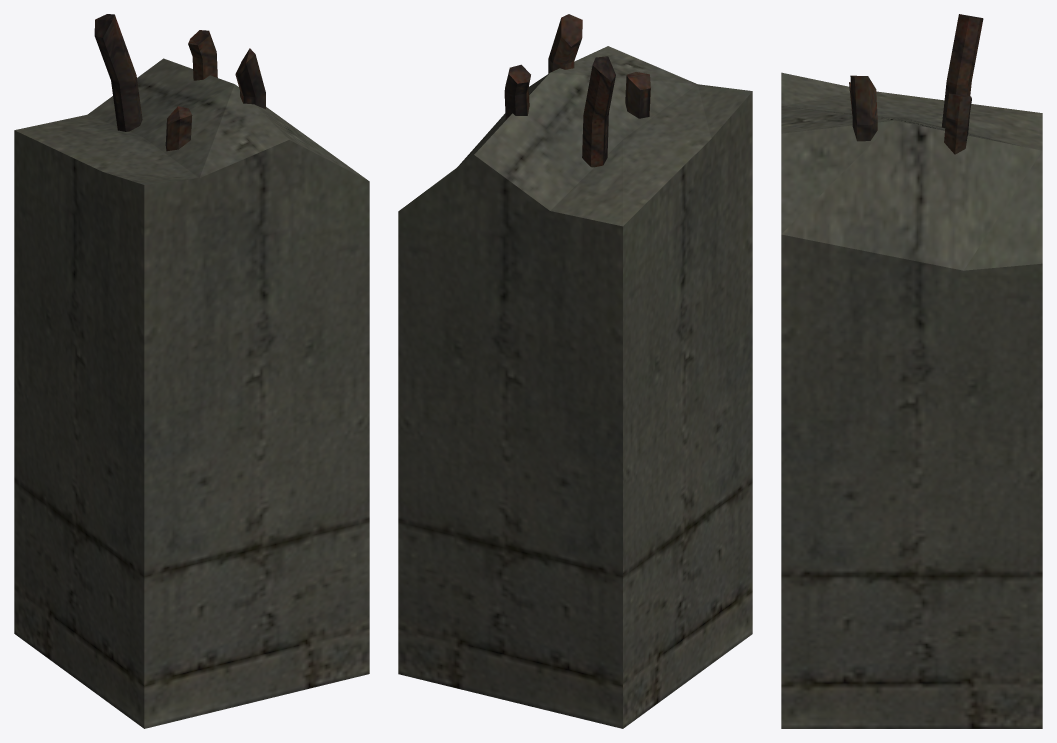
Rendered from pillar_rg_1_broken.obj.
3 renders of one model, left to right at view 1: azimuth 30°, elevation 25°; view 2: azimuth 150°, elevation 25°; view 3: azimuth 270°, elevation 25°, orthographic.
Parts seen in each view (by area): view 1: pillar_rg_1_broken; view 2: pillar_rg_1_broken; view 3: pillar_rg_1_broken.
Part boxes in pixels (<box>): pillar_rg_1_broken: <box>14,14,369,728</box>; pillar_rg_1_broken: <box>398,14,752,728</box>; pillar_rg_1_broken: <box>781,14,1042,728</box>.
Size of the model in its own units: 0.6 by 1.6 by 0.6.
